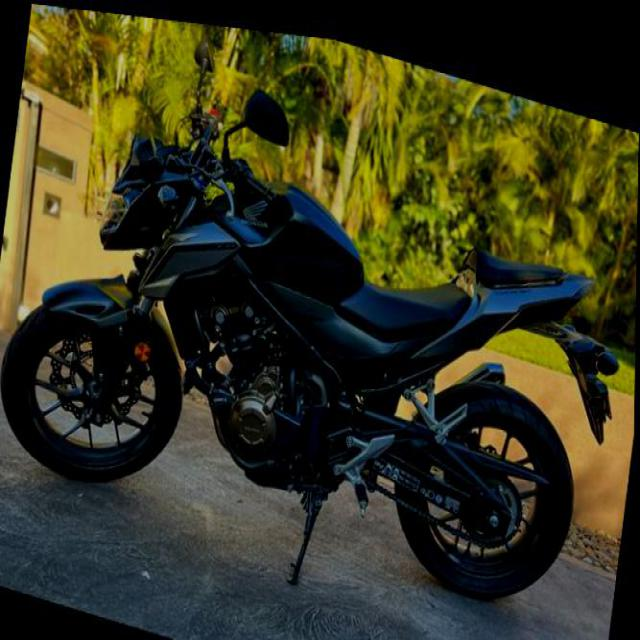CB500F: (0, 91, 632, 626)
